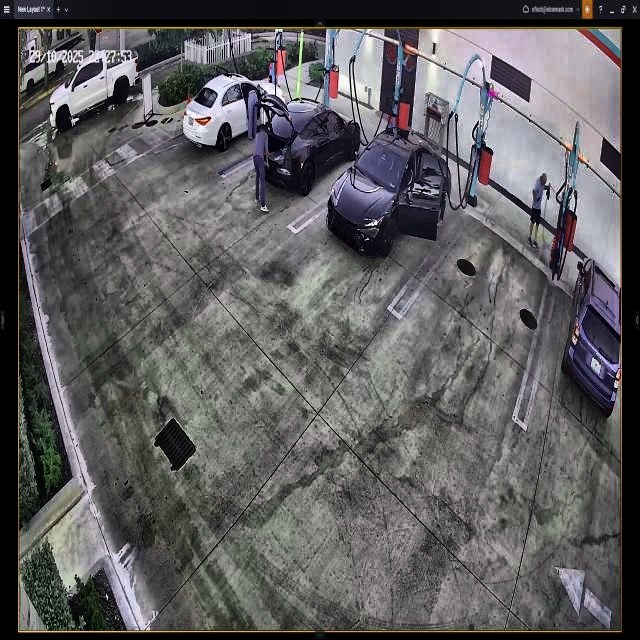Car: (328, 128, 449, 261), (258, 94, 360, 181), (180, 72, 285, 148)
